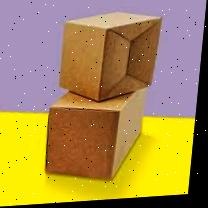cube: (44, 87, 149, 186), (58, 11, 162, 104)
